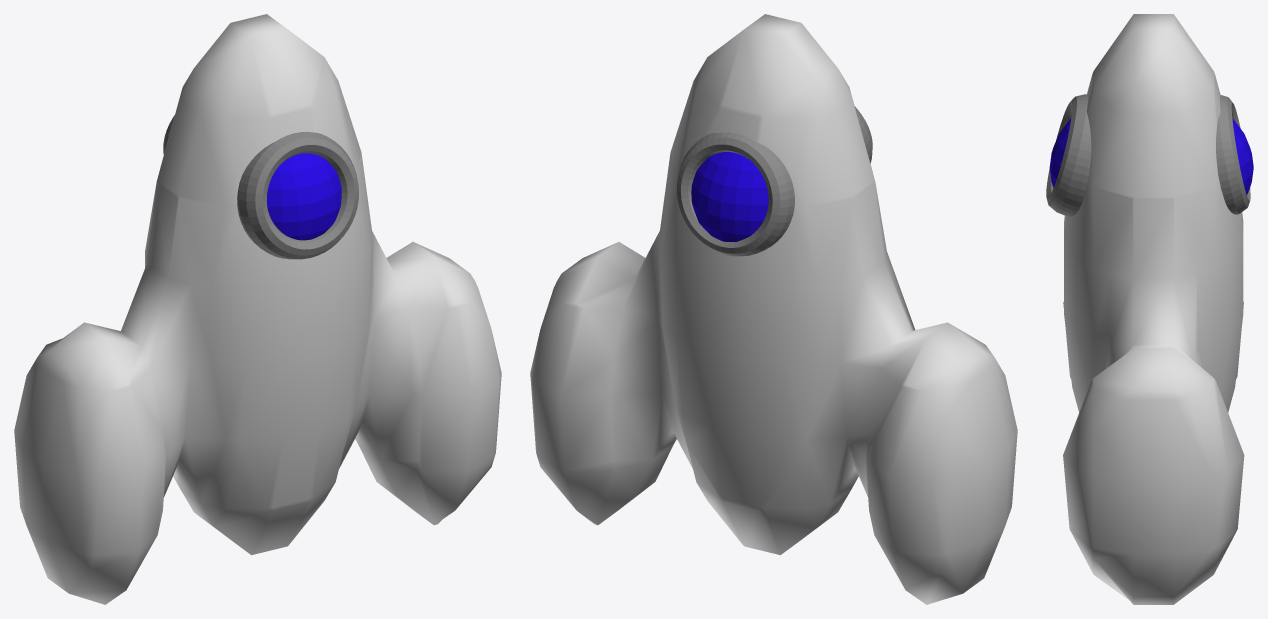
File: rocket.glb
3 renders of one model, left to right at view 1: azimuth 30°, elevation 25°; view 2: azimuth 150°, elevation 25°; view 3: azimuth 270°, elevation 25°, orthographic. The views are drawn at different scales.
Parts seen in each view (by area): view 1: rocket; view 2: rocket; view 3: rocket.
Part boxes in pixels (x1=…): rocket: x1=14, y1=14, x2=501, y2=604; rocket: x1=530, y1=14, x2=1017, y2=604; rocket: x1=1046, y1=14, x2=1253, y2=604.
Size of the model in its own units: 4.93 by 5.56 by 2.07.
